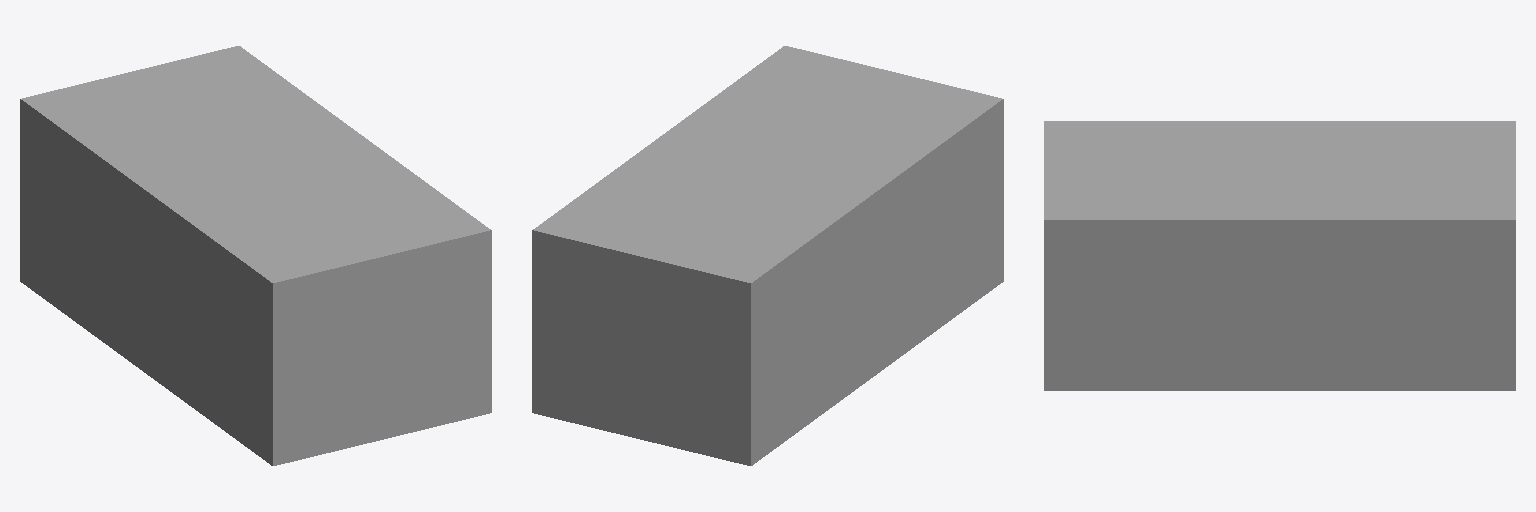
URDF robot description (turtlebot3_burger):
<?xml version="1.0" ?>
<robot name="turtlebot3_burger"
  xmlns:xacro="http://ros.org/wiki/xacro">
  <!-- <xacro:include filename="$(find turtlebot3_description)/urdf/common_properties.urdf"/> -->

  <!-- Init colour -->
  <material name="black">
    <color rgba="0.0 0.0 0.0 1.0"/>
  </material>

  <material name="dark">
    <color rgba="0.3 0.3 0.3 1.0"/>
  </material>

  <material name="light_black">
    <color rgba="0.4 0.4 0.4 1.0"/>
  </material>

  <material name="blue">
    <color rgba="0.0 0.0 0.8 1.0"/>
  </material>

  <material name="green">
    <color rgba="0.0 0.8 0.0 1.0"/>
  </material>

  <material name="grey">
    <color rgba="0.5 0.5 0.5 1.0"/>
  </material>

  <material name="orange">
    <color rgba="1.0 0.4235 0.0392 1.0"/>
  </material>

  <material name="brown">
    <color rgba="0.8706 0.8118 0.7647 1.0"/>
  </material>

  <material name="red">
    <color rgba="0.8 0.0 0.0 1.0"/>
  </material>

  <material name="white">
    <color rgba="1.0 1.0 1.0 1.0"/>
  </material>

  <link name="base_footprint"/>

  <joint name="base_joint" type="fixed">
    <parent link="base_footprint"/>
    <child link="base_link"/>
    <origin xyz="0.0 0.0 0.010" rpy="0 0 0"/>
  </joint>

  <link name="base_link">
    <visual>
      <origin xyz="-0.032 0 0.0" rpy="0 0 0"/>
      <geometry>
        <mesh filename="package://turtlebot3_gazebo/models/turtlebot3_common/meshes/burger_base.dae" scale="0.001 0.001 0.001"/>
      </geometry>
      <material name="light_black"/>
    </visual>

    <collision>
      <origin xyz="-0.032 0 0.070" rpy="0 0 0"/>
      <geometry>
        <box size="0.140 0.140 0.143"/>
      </geometry>
    </collision>

    <inertial>
      <origin xyz="0 0 0" rpy="0 0 0"/>
      <mass value="8.2573504e-01"/>
      <inertia ixx="2.2124416e-03" ixy="-1.2294101e-05" ixz="3.4938785e-05" iyy="2.1193702e-03" iyz="-5.0120904e-06" izz="2.0064271e-03" />
    </inertial>
  </link>

  <joint name="wheel_left_joint" type="continuous">
    <parent link="base_link"/>
    <child link="wheel_left_link"/>
    <origin xyz="0.0 0.08 0.023" rpy="-1.57 0 0"/>
    <axis xyz="0 0 1"/>
  </joint>

  <link name="wheel_left_link">
    <visual>
      <origin xyz="0 0 0" rpy="1.57 0 0"/>
      <geometry>
        <mesh filename="package://turtlebot3_gazebo/models/turtlebot3_common/meshes/tire.dae" scale="0.001 0.001 0.001"/>
      </geometry>
      <material name="dark"/>
    </visual>

    <collision>
      <origin xyz="0 0 0" rpy="0 0 0"/>
      <geometry>
        <cylinder length="0.018" radius="0.033"/>
      </geometry>
    </collision>

    <inertial>
      <origin xyz="0 0 0" />
      <mass value="2.8498940e-02" />
      <inertia ixx="1.1175580e-05" ixy="-4.2369783e-11" ixz="-5.9381719e-09" iyy="1.1192413e-05" iyz="-1.4400107e-11" izz="2.0712558e-05" />
    </inertial>
  </link>

  <joint name="wheel_right_joint" type="continuous">
    <parent link="base_link"/>
    <child link="wheel_right_link"/>
    <origin xyz="0.0 -0.080 0.023" rpy="-1.57 0 0"/>
    <axis xyz="0 0 1"/>
  </joint>

  <link name="wheel_right_link">
    <visual>
      <origin xyz="0 0 0" rpy="1.57 0 0"/>
      <geometry>
        <mesh filename="package://turtlebot3_gazebo/models/turtlebot3_common/meshes/tire.dae" scale="0.001 0.001 0.001"/>
      </geometry>
      <material name="dark"/>
    </visual>

    <collision>
      <origin xyz="0 0 0" rpy="0 0 0"/>
      <geometry>
        <cylinder length="0.018" radius="0.033"/>
      </geometry>
    </collision>

    <inertial>
      <origin xyz="0 0 0" />
      <mass value="2.8498940e-02" />
      <inertia ixx="1.1175580e-05" ixy="-4.2369783e-11" ixz="-5.9381719e-09" iyy="1.1192413e-05" iyz="-1.4400107e-11" izz="2.0712558e-05" />
    </inertial>
  </link>

  <joint name="caster_back_joint" type="fixed">
    <parent link="base_link"/>
    <child link="caster_back_link"/>
    <origin xyz="-0.081 0 -0.004" rpy="-1.57 0 0"/>
  </joint>

  <link name="caster_back_link">
    <collision>
      <origin xyz="0 0.001 0" rpy="0 0 0"/>
      <geometry>
        <box size="0.030 0.009 0.020"/>
      </geometry>
    </collision>

    <inertial>
      <origin xyz="0 0 0" />
      <mass value="0.005" />
      <inertia ixx="0.001" ixy="0.0" ixz="0.0" iyy="0.001" iyz="0.0" izz="0.001" />
    </inertial>
  </link>

  <joint name="imu_joint" type="fixed">
    <parent link="base_link"/>
    <child link="imu_link"/>
    <origin xyz="-0.032 0 0.068" rpy="0 0 0"/>
  </joint>

  <link name="imu_link"/>

  <joint name="scan_joint" type="fixed">
    <parent link="base_link"/>
    <child link="base_scan"/>
    <origin xyz="-0.032 0 0.172" rpy="0 0 0"/>
  </joint>

  <link name="base_scan">
    <visual>
      <origin xyz="0 0 0.0" rpy="0 0 0"/>
      <geometry>
        <mesh filename="package://turtlebot3_gazebo/models/turtlebot3_common/meshes/lds.dae" scale="0.001 0.001 0.001"/>
      </geometry>
      <material name="dark"/>
    </visual>

    <collision>
      <origin xyz="0.015 0 -0.0065" rpy="0 0 0"/>
      <geometry>
        <cylinder length="0.0315" radius="0.055"/>
      </geometry>
    </collision>

    <inertial>
      <mass value="0.114" />
      <origin xyz="0 0 0" />
      <inertia ixx="0.001" ixy="0.0" ixz="0.0" iyy="0.001" iyz="0.0" izz="0.001" />
    </inertial>
  </link>
  <!-- ! depth camera -->

  <link name="d435_link">
    <visual>
      <origin xyz="0 0 0" rpy="0 0 0" />
      <geometry>
        <box size="0.025 0.05 0.02" />
      </geometry>
    </visual>
  </link>

  <joint name="d435_joint" type="fixed">
    <origin xyz="0.05 0 0.14" rpy="0 0 0" />
    <parent link="base_link" />
    <child link="d435_link" />
  </joint>

  <link name="depth_camera_link">
    <origin xyz="0 0 0" rpy="0 0 0" />
  </link>

  <joint name="depth_camera_joint" type="fixed">
    <origin xyz="0 0 0" rpy="-1.57 0 -1.57" />
    <parent link="d435_link" />
    <child link="depth_camera_link" />
  </joint>

</robot>

--- Render facts (derived) ---
The picture shows the robot from 3 angles, left to right: view 1: azimuth 30°, elevation 25°; view 2: azimuth 150°, elevation 25°; view 3: azimuth 270°, elevation 25°; orthographic projection.
Model turtlebot3_burger with 9 links and 8 joints (2 continuous, 6 fixed), rooted at base_footprint, posed all joints at 0.
Links seen in each view (by area): view 1: d435_link; view 2: d435_link; view 3: d435_link.
Boxes of the visible links, x1,y1,x2,y2 form: d435_link: (20,46,491,465); d435_link: (532,46,1003,465); d435_link: (1044,121,1515,390).
Size in the robot's own frame: 0.025 by 0.05 by 0.02 metres.
Meshes: 3 distinct files referenced, 0 mesh visuals loaded (none loaded); not drawn: 4 (file found but could not be loaded).